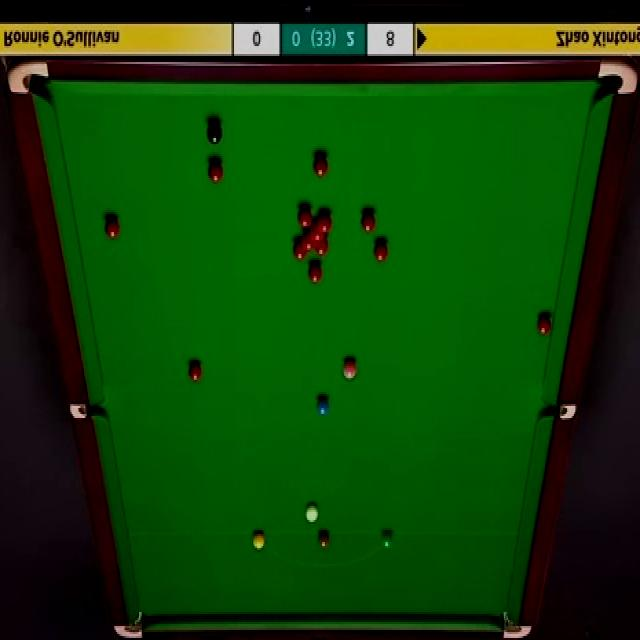black-ball: (207, 117, 223, 144)
blue-ball: (316, 395, 330, 418)
brown-ball: (318, 530, 330, 552)
green-ball: (380, 529, 393, 548)
pink-ball: (343, 359, 357, 380)
red-ball: (360, 208, 378, 235), (372, 237, 389, 265), (536, 312, 553, 338), (104, 215, 120, 242), (313, 153, 328, 179), (208, 160, 224, 184), (297, 204, 312, 229), (308, 260, 322, 284), (292, 238, 306, 262), (318, 211, 332, 234), (188, 362, 202, 383), (302, 232, 315, 251), (316, 236, 328, 256), (311, 223, 324, 241)
white-ball: (303, 501, 320, 526)
yellow-ball: (252, 529, 265, 550)
